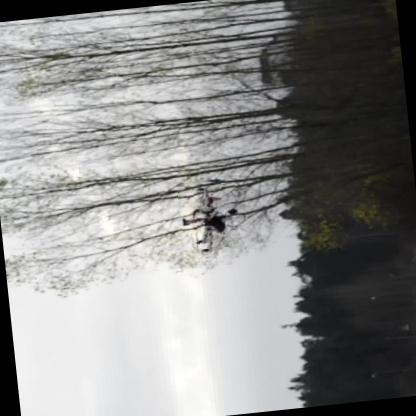drone: (177, 181, 243, 259)
